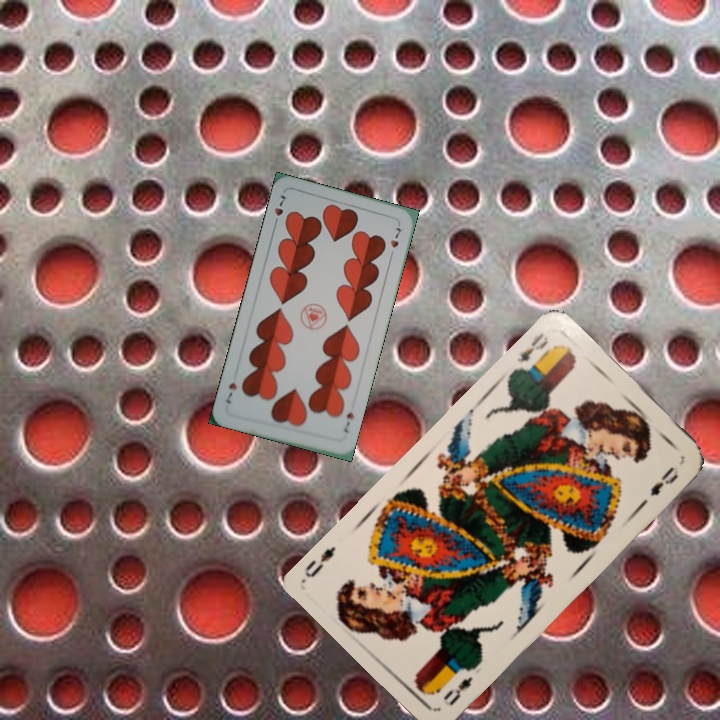EO: (439, 663, 478, 709), (512, 329, 551, 365)
H7: (270, 191, 289, 229), (339, 408, 356, 436)
